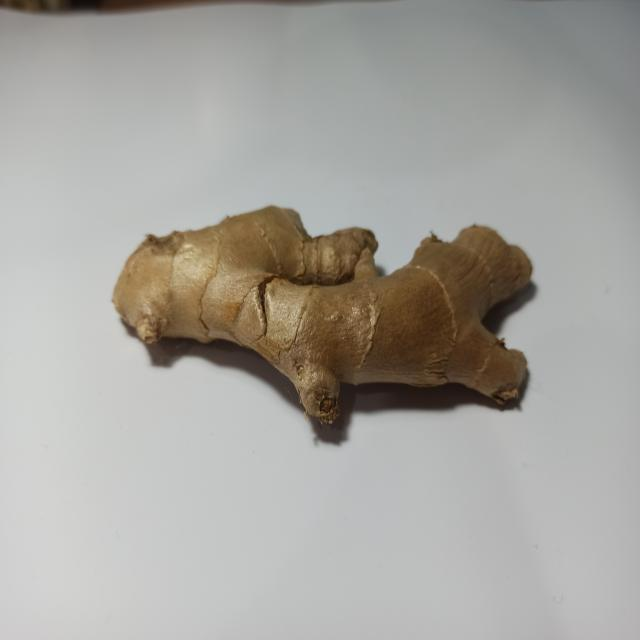ginger: (122, 205, 528, 421)
